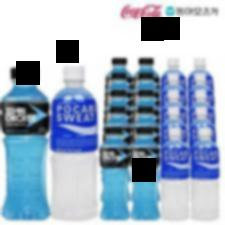pocarisweat: (53, 63, 98, 219), (190, 128, 220, 222), (162, 128, 188, 221)
powerade_mountainblast: (2, 65, 51, 221), (99, 127, 133, 222), (131, 127, 160, 220)
